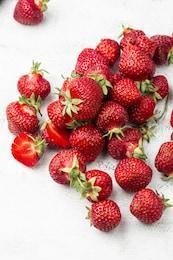Fresa: (61, 74, 105, 125), (66, 120, 106, 166), (48, 147, 90, 188), (117, 42, 157, 85), (127, 187, 168, 227), (113, 156, 154, 194), (86, 197, 125, 235), (5, 98, 41, 137), (96, 97, 131, 135), (79, 167, 115, 203), (15, 69, 52, 103), (10, 1, 47, 29)
